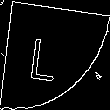L_N: (38, 28, 72, 82)
